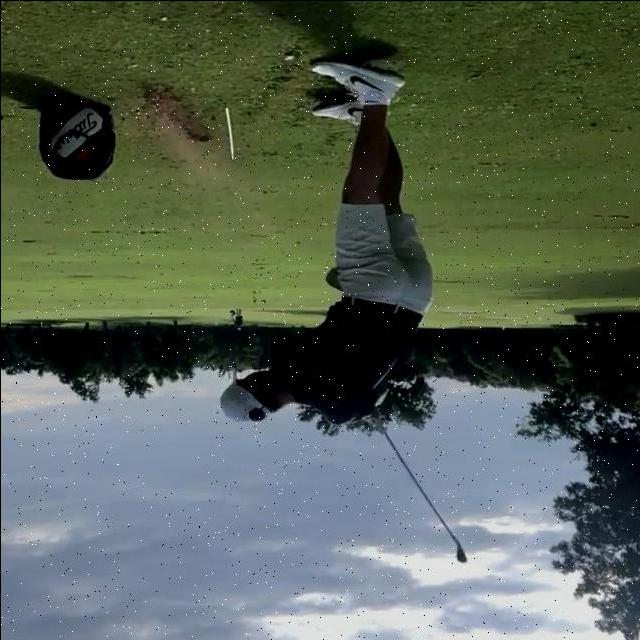golf club-handle: (378, 423, 467, 563)
golf club-head: (453, 546, 466, 563)
